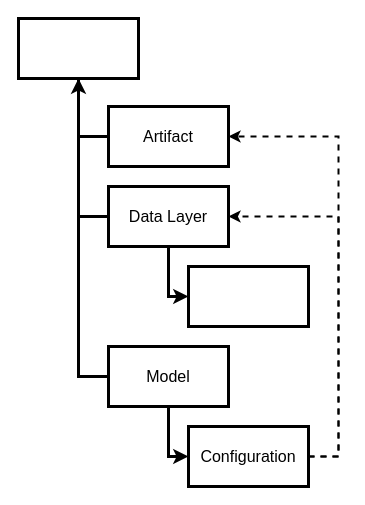
Image size: 365x505. Some labels were removed from this diagram. The shapes that lost their labels are listed below. From the top down, each one's centre as x and y in pixels, then its label:
At (78,48): "Dataset".
At (248,296): "Feature".
